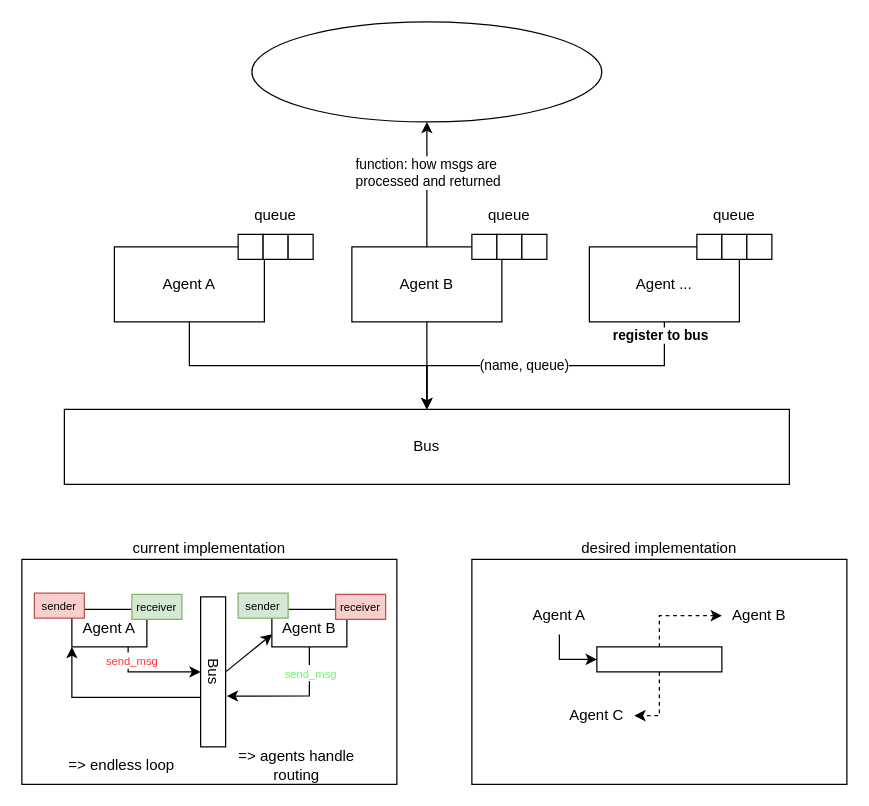
This 869x806 diagram has some shape labels left out. Each missing label, with the centre of its shape:
dynamic router: [659,659]
handler: - proc_msg<- preprocess(msg) - llm(proc_msg): [426,71]
